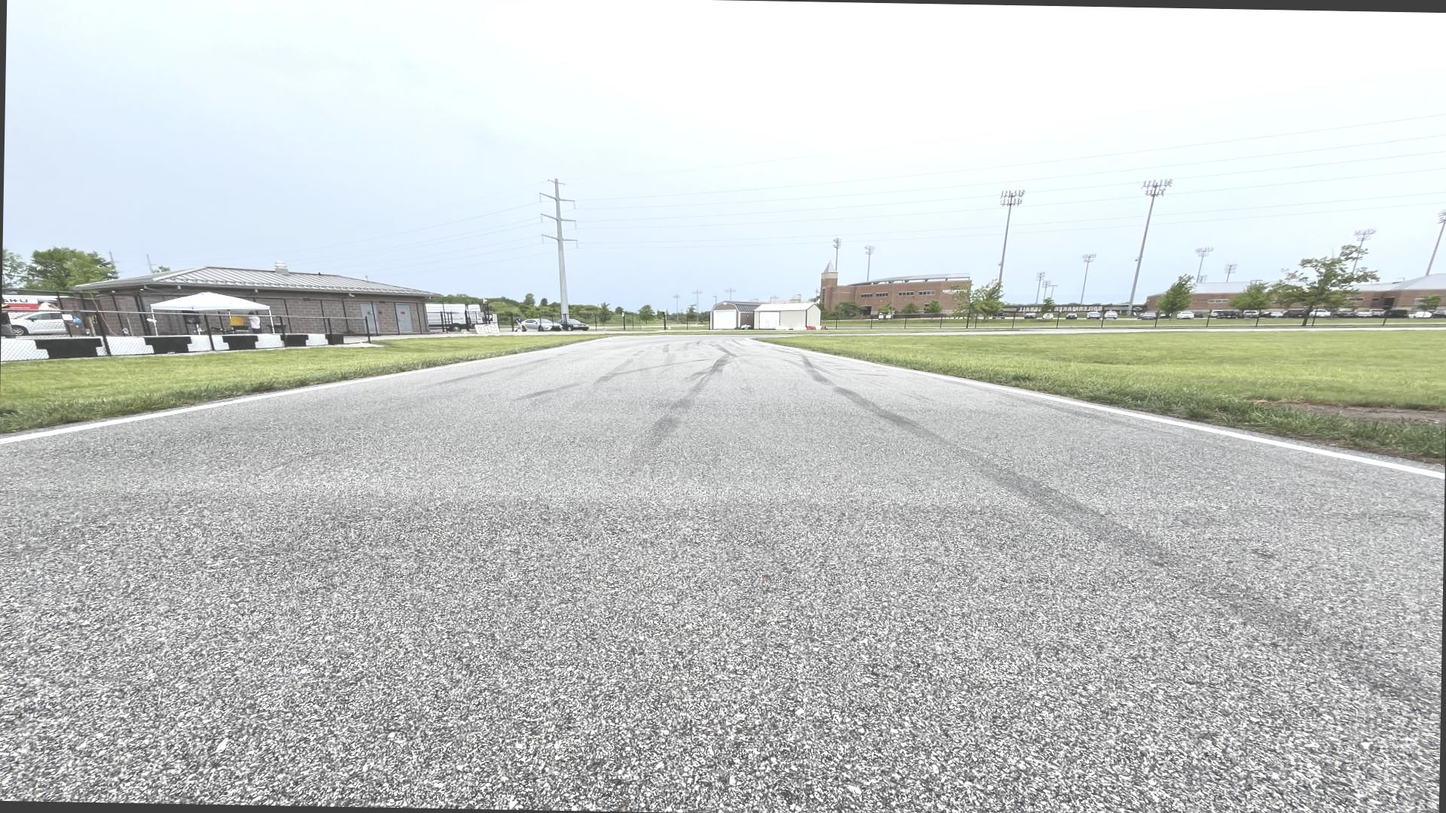white-line: (746, 338, 1444, 480), (0, 336, 637, 446)
